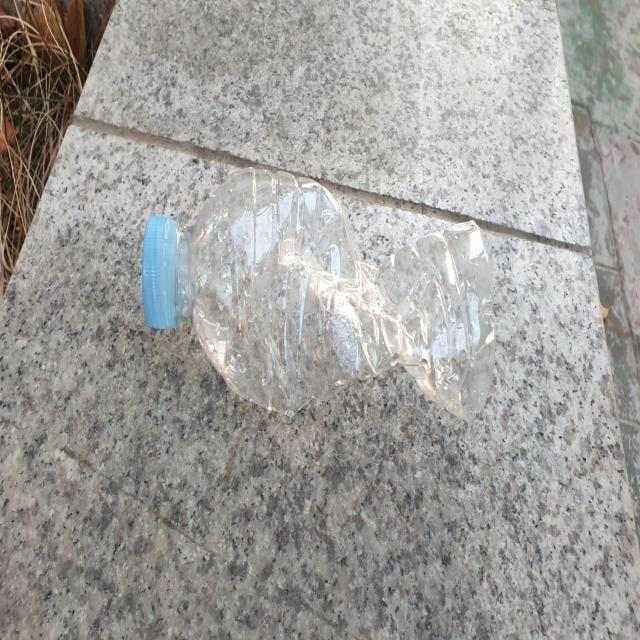plastic: (141, 167, 495, 419)
